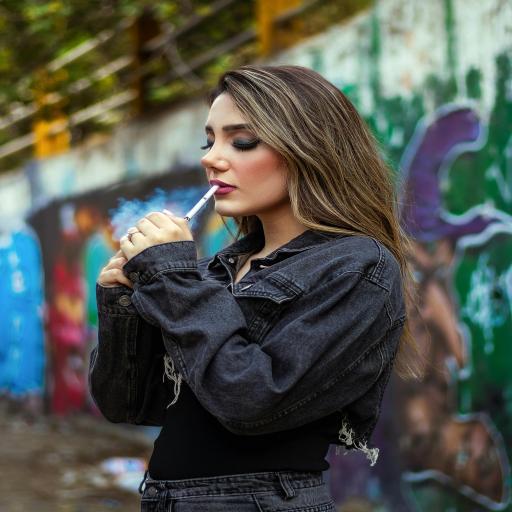terdeteksi merokok: (152, 109, 259, 248)
